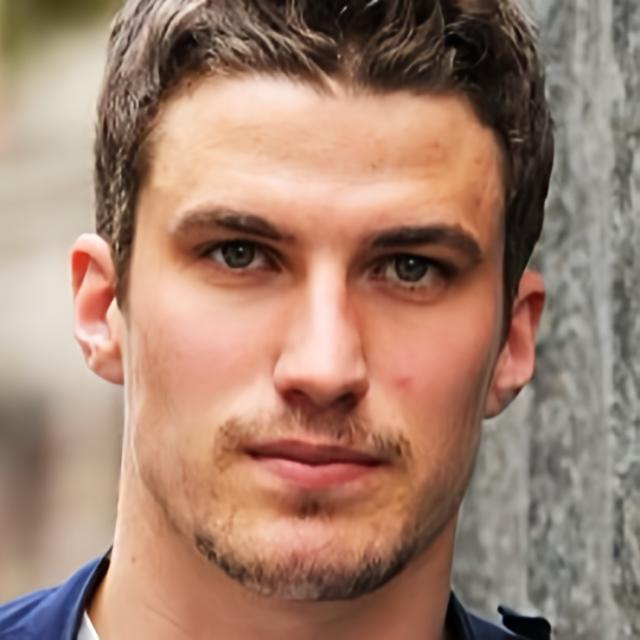content: (122, 54, 506, 596)
